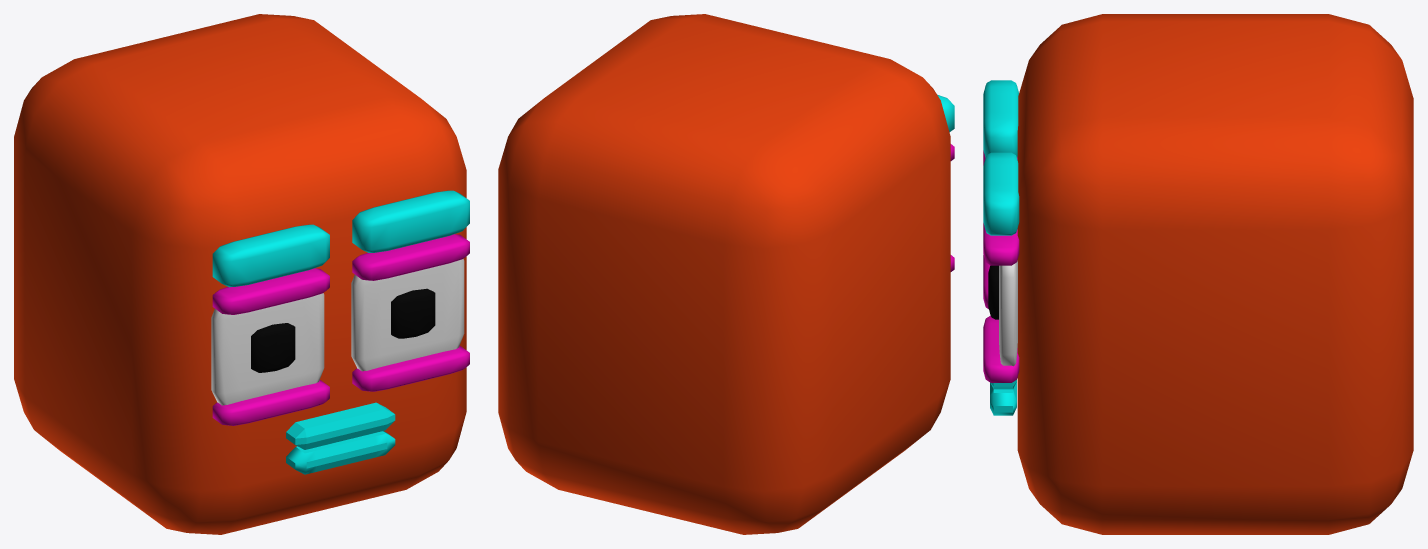
File: robot2 (1).glb
The picture shows the model from 3 angles, left to right: view 1: azimuth 30°, elevation 25°; view 2: azimuth 150°, elevation 25°; view 3: azimuth 270°, elevation 25°; orthographic projection. The views are drawn at different scales.
Parts seen in each view (by area): view 1: Cube; view 2: Cube; view 3: Cube.
Boxes of the visible parts, <box> form: Cube: <box>14,14,469,534</box>; Cube: <box>498,14,954,534</box>; Cube: <box>983,14,1413,534</box>.
Size of the model in its own units: 0.7 by 0.8 by 0.7606.
